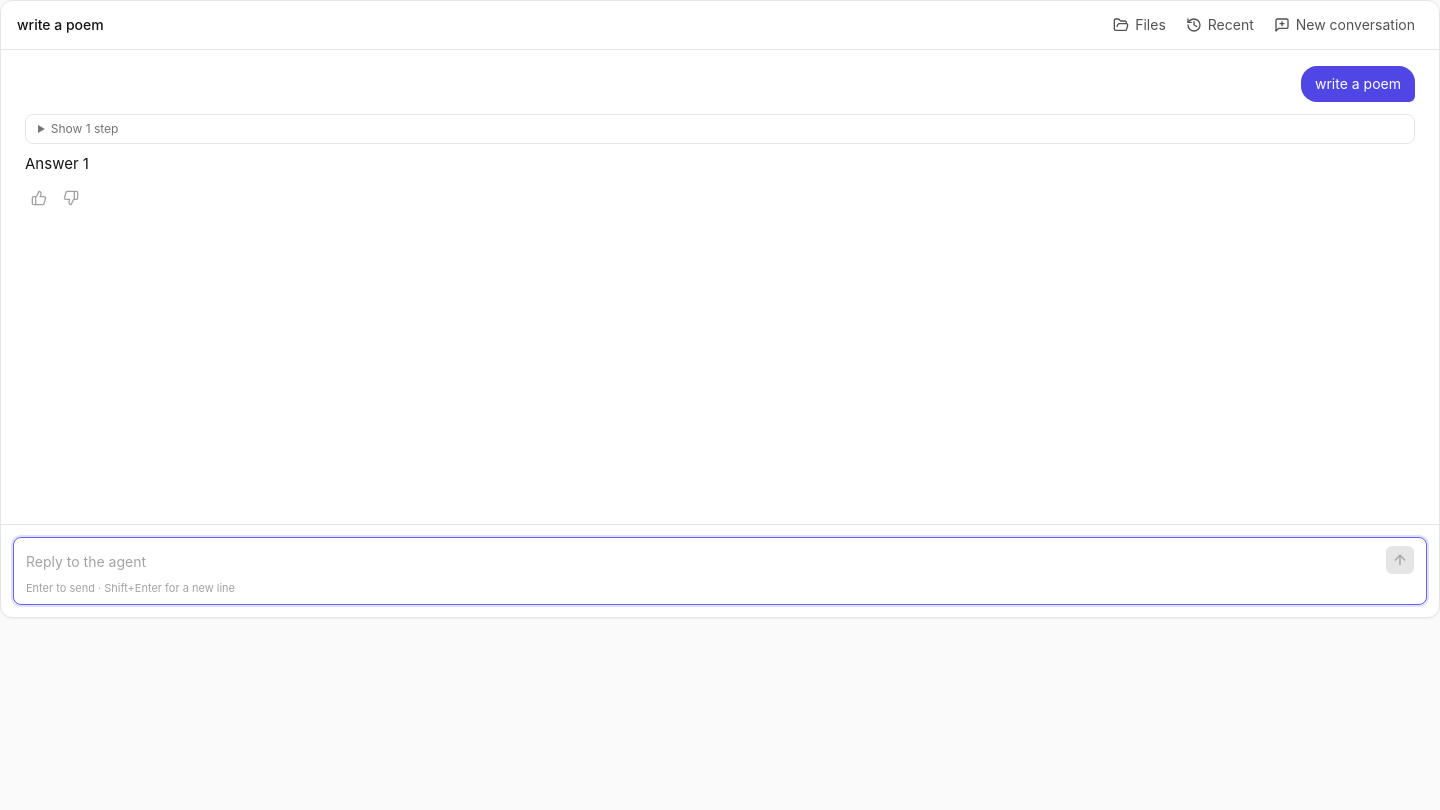
Scenario: ShareChat › shows the daily limit inline
Expected: the element with test id "final-answer" is shown, [25,154,89,173]
In the text box named "Message": {"x": 702, "y": 562} [26,548,1378,576], type "again"
Then press Enter
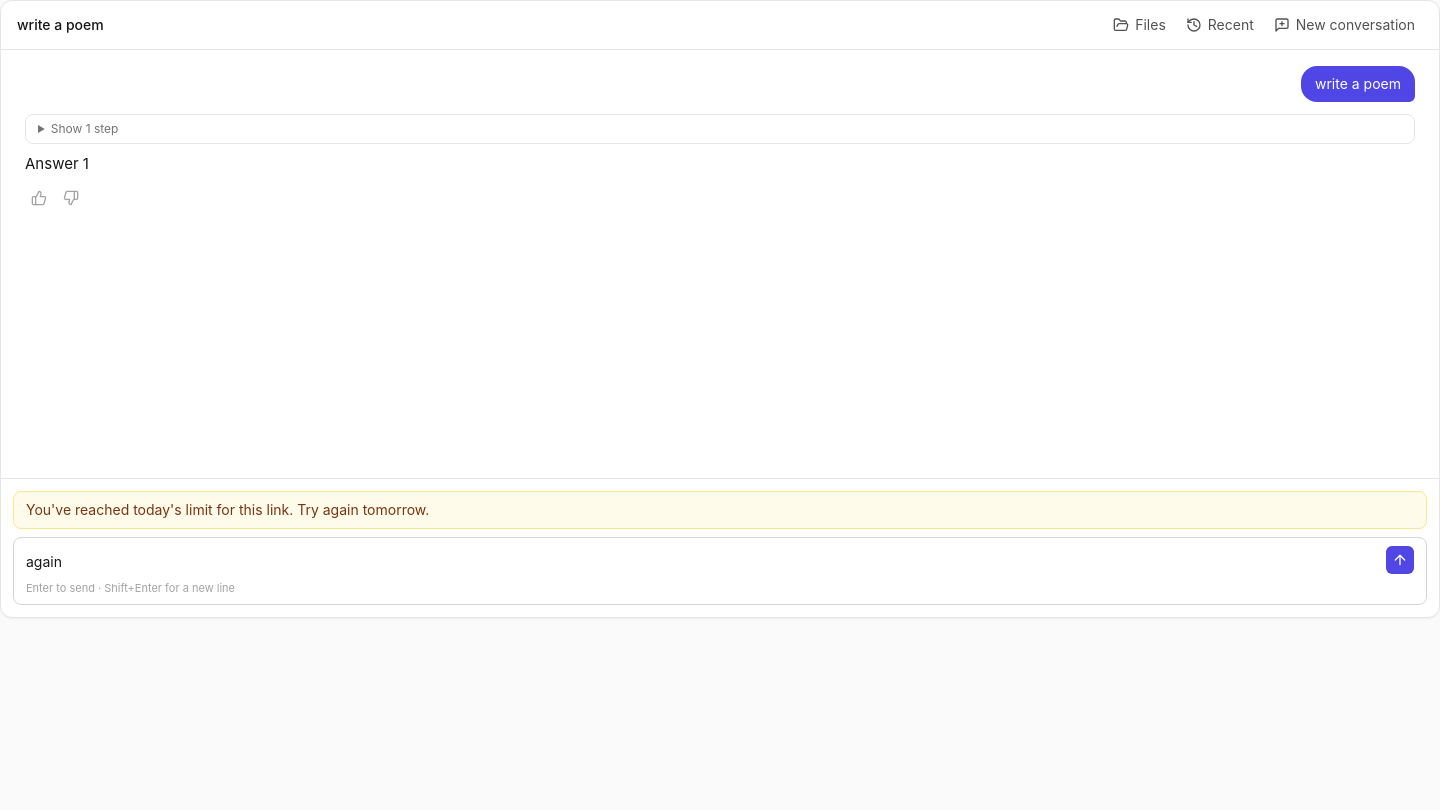
Result: the message with test id "share-notice" reads "You've reached today's limit for this link. Try again tomorrow." at [26,500,429,518]
